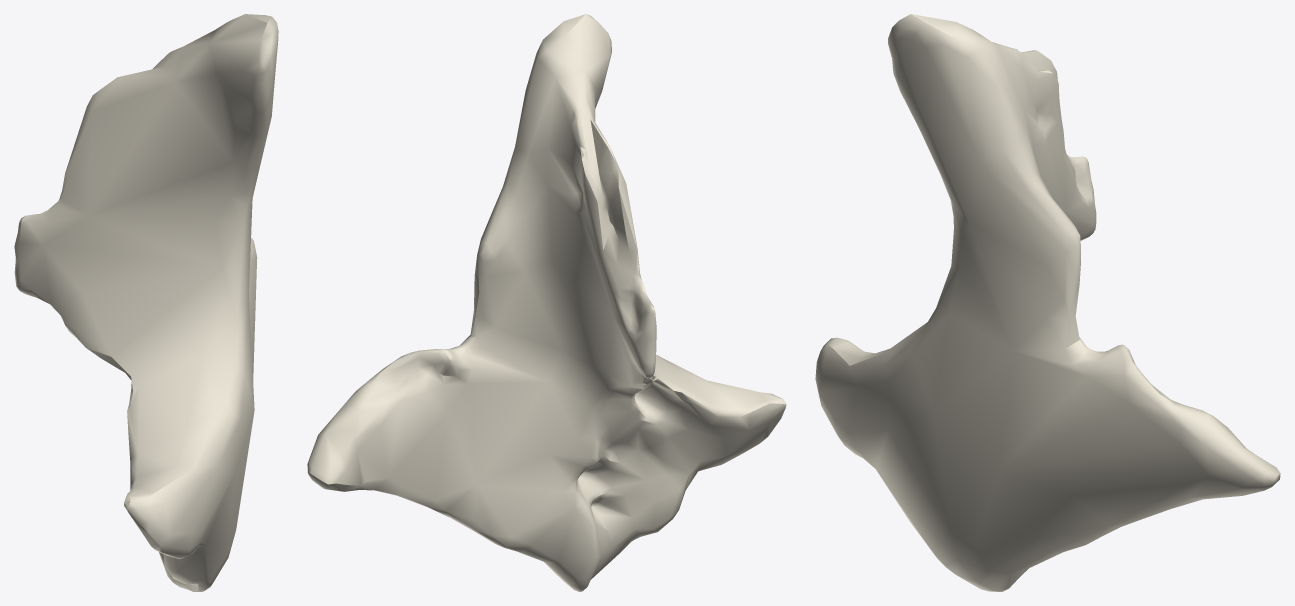
The model's file is fma52893_fj6397.glb.
The picture shows the model from 3 angles, left to right: view 1: azimuth 30°, elevation 25°; view 2: azimuth 150°, elevation 25°; view 3: azimuth 270°, elevation 25°; orthographic projection. The views are drawn at different scales.
Visible parts, largest first — view 1: FMA52893_FJ6397; view 2: FMA52893_FJ6397; view 3: FMA52893_FJ6397.
Part boxes in pixels (box(x1,y1,x2,y2)): FMA52893_FJ6397: box(14, 14, 278, 591); FMA52893_FJ6397: box(307, 14, 786, 591); FMA52893_FJ6397: box(815, 14, 1280, 591).
Size of the model in its own units: 0.0313 by 0.0561 by 0.0398.
